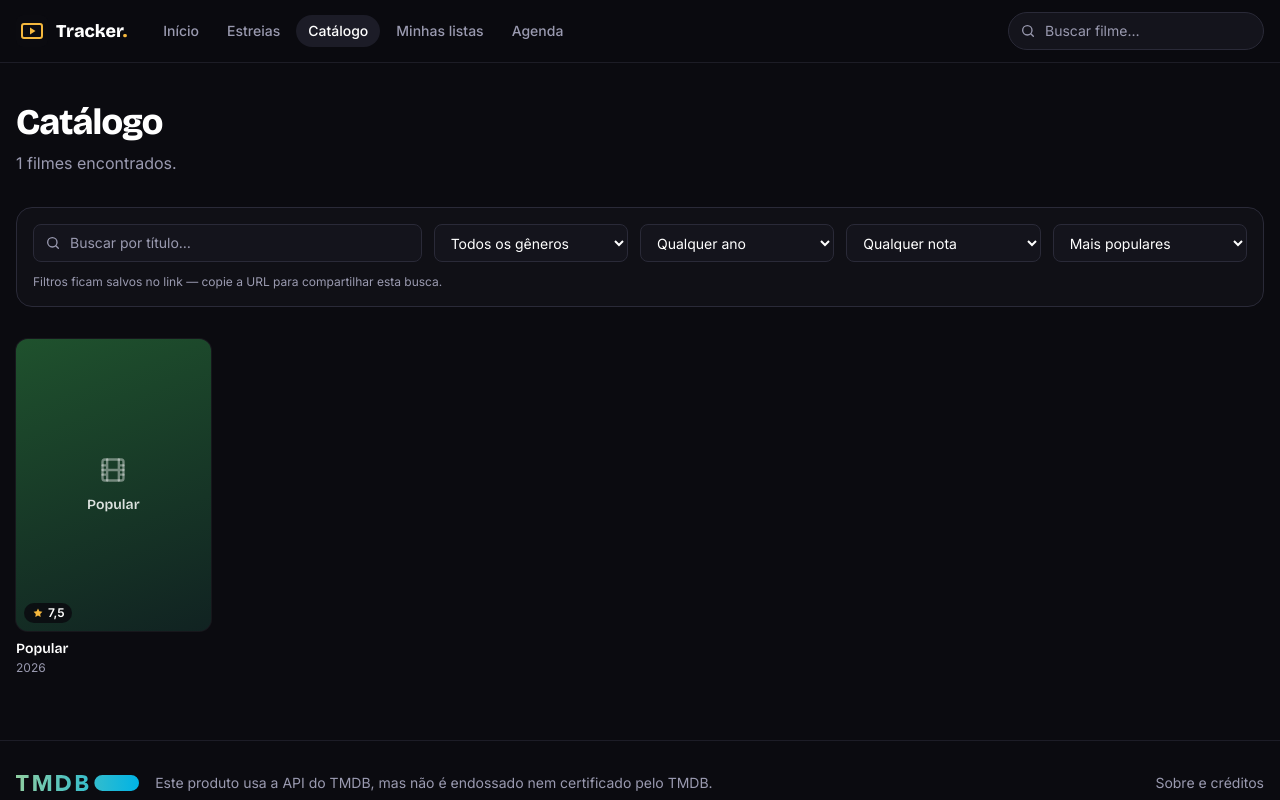
Test case: Catálogo › busca por texto com debounce: uma requisição para a palavra inteira
Check: the heading "Popular" is shown, box [16,640,68,657]
Step 1. Type "duna" into the search field with placeholder "Buscar por título…" → (227, 243), box [33,224,422,262]
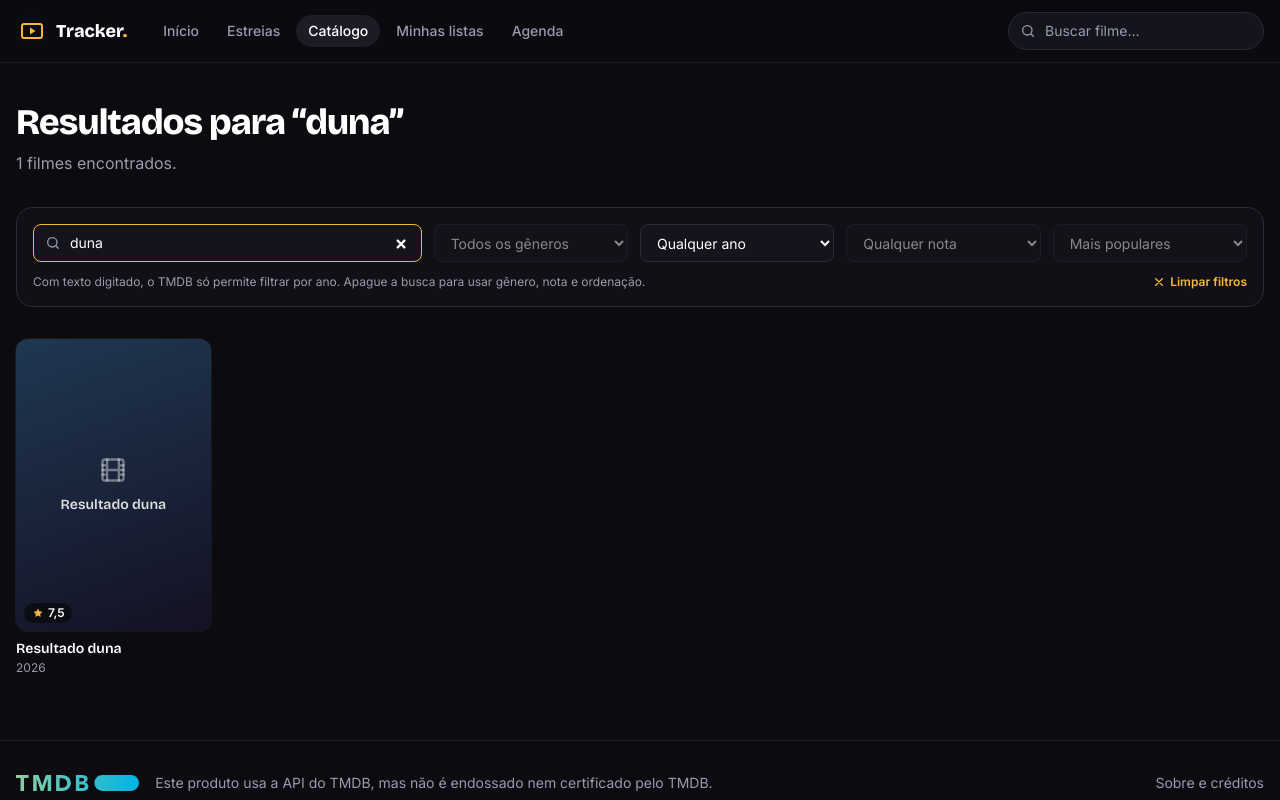
Check: the heading "Resultado duna" is shown, box [16,640,122,657]
